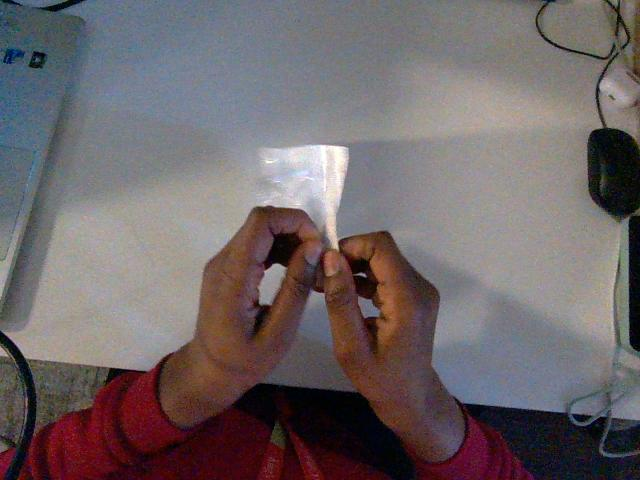gallipot: (259, 145, 348, 248)
